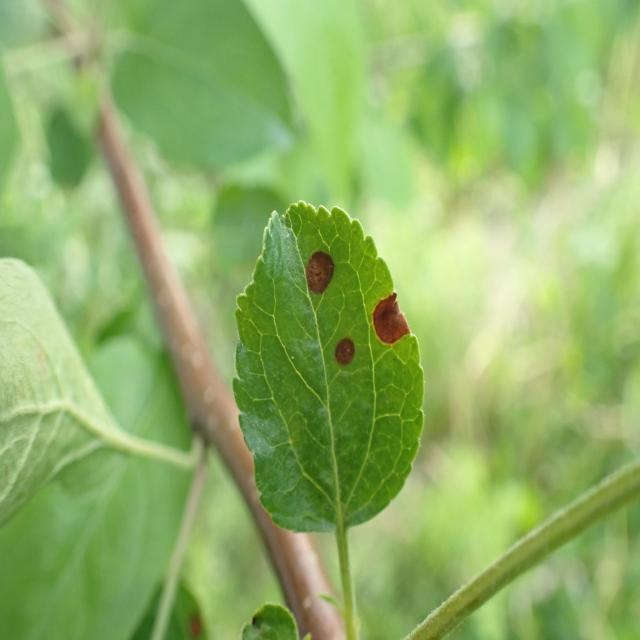Black Rot: (372, 283, 415, 380), (300, 237, 344, 312), (322, 324, 363, 376)
